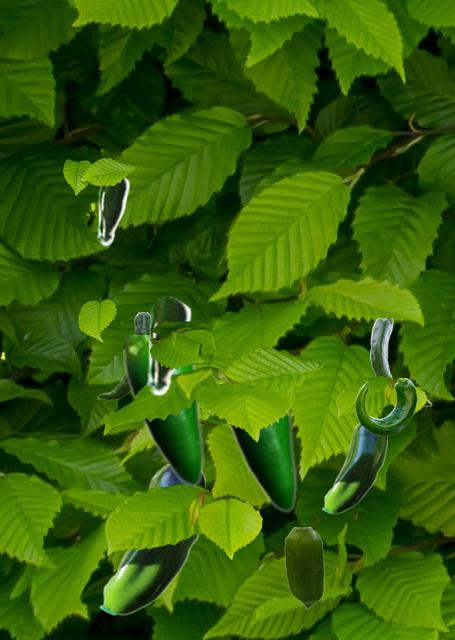green_chili: (98, 465, 204, 615), (123, 335, 203, 486), (223, 396, 296, 512), (321, 422, 386, 513), (370, 318, 431, 405), (144, 295, 191, 395), (97, 312, 148, 399), (355, 378, 416, 434), (284, 527, 323, 608), (95, 176, 129, 245)
